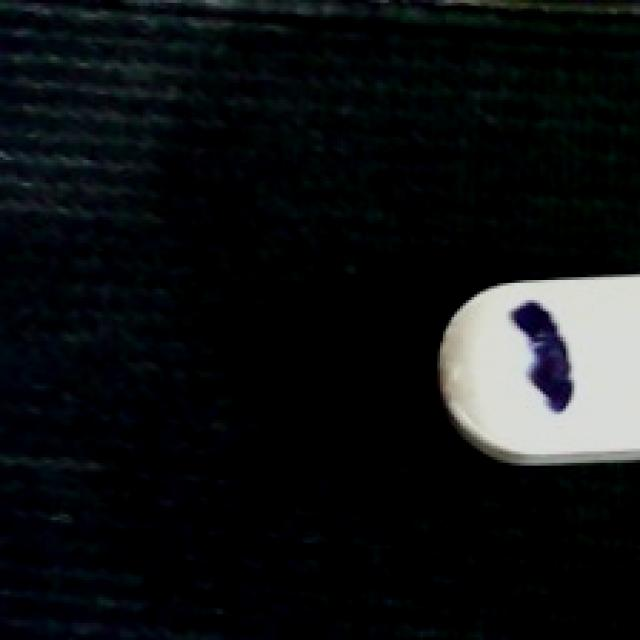defected: (426, 266, 637, 468)
